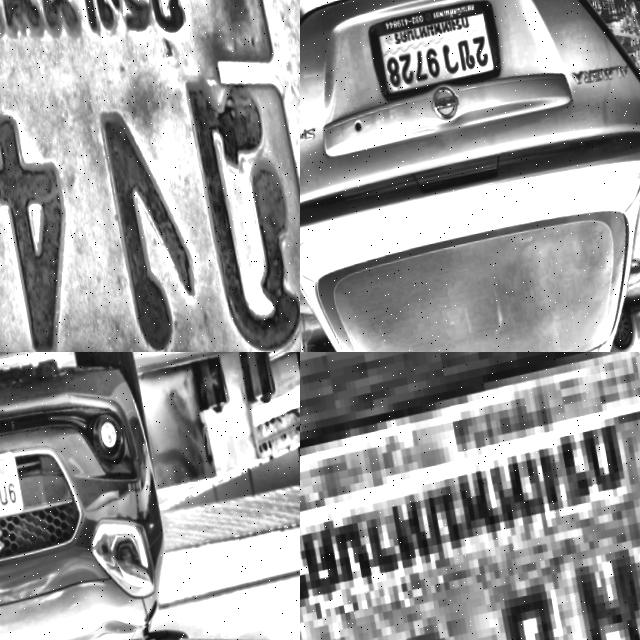license-plate: (0, 0, 300, 352), (300, 352, 640, 640), (364, 0, 503, 109), (0, 451, 23, 533)
